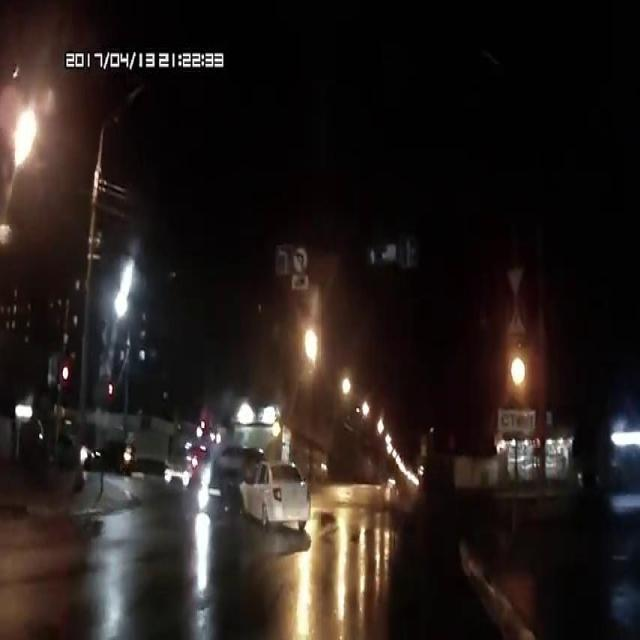multiple_accident: (191, 423, 309, 524)
